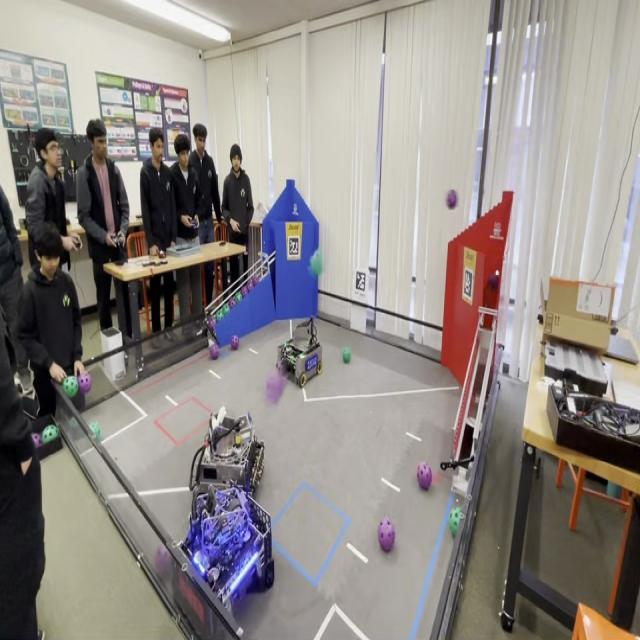artifact_green: (309, 249, 323, 277), (450, 508, 462, 538), (77, 371, 92, 395), (63, 376, 78, 398), (606, 482, 622, 500), (42, 426, 55, 444), (89, 422, 100, 439), (450, 508, 462, 522), (207, 317, 216, 334), (41, 430, 51, 445), (450, 522, 459, 538), (32, 433, 42, 447), (343, 348, 351, 363), (252, 273, 260, 287), (51, 426, 59, 439), (70, 418, 79, 429), (216, 310, 223, 322), (246, 279, 253, 291), (235, 292, 242, 303), (241, 286, 248, 297), (224, 304, 230, 315), (220, 307, 226, 318), (230, 298, 236, 309), (47, 424, 57, 430)
artifact_purple: (266, 370, 286, 404), (378, 517, 395, 552), (155, 546, 173, 578), (417, 463, 432, 489), (78, 373, 91, 394), (447, 190, 457, 209), (488, 273, 499, 290), (210, 343, 219, 360), (32, 433, 42, 447), (208, 316, 216, 333), (231, 336, 239, 350), (252, 274, 259, 286), (247, 280, 253, 291), (230, 298, 236, 309), (242, 286, 248, 297)
